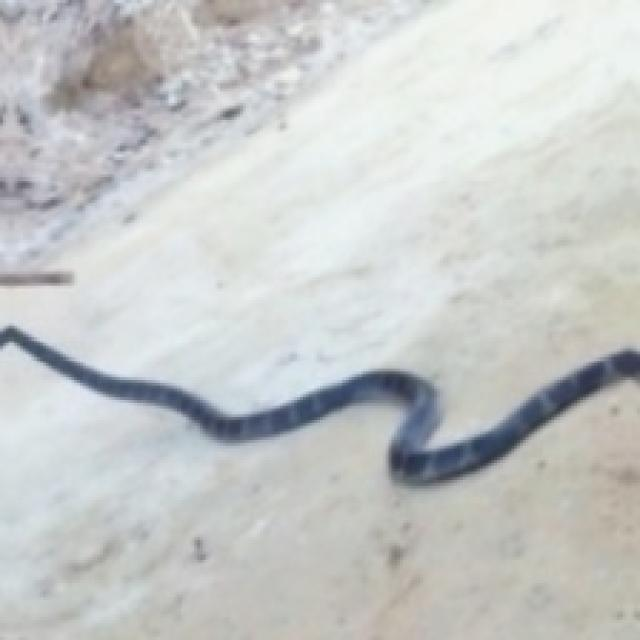king cobra: (0, 326, 637, 483), (0, 326, 637, 480)
